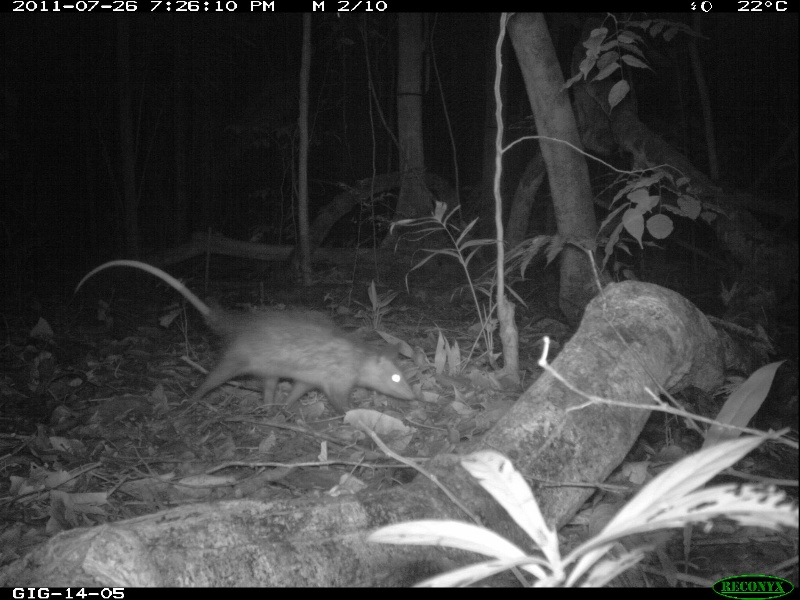opossum: (74, 254, 424, 413)
